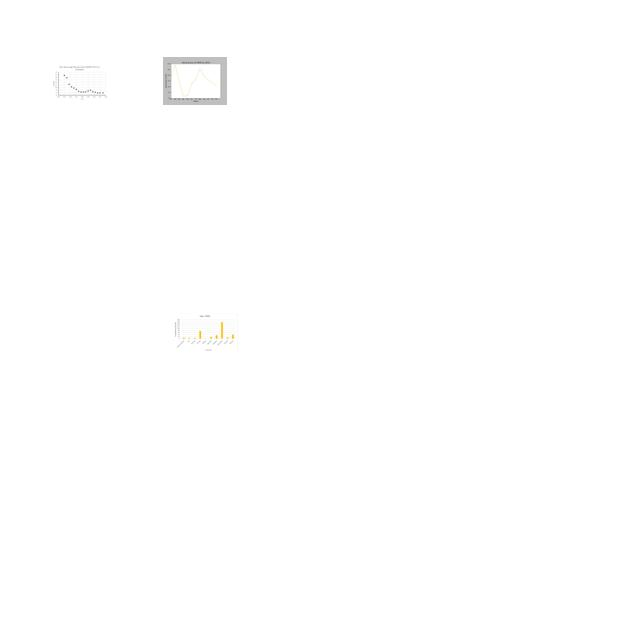Graph: (163, 57, 227, 105), (172, 313, 238, 353), (52, 65, 108, 101)
